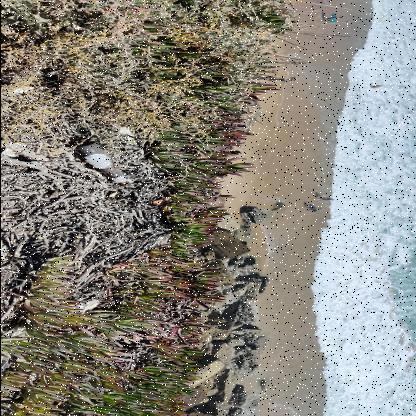glass: (75, 141, 130, 186)
